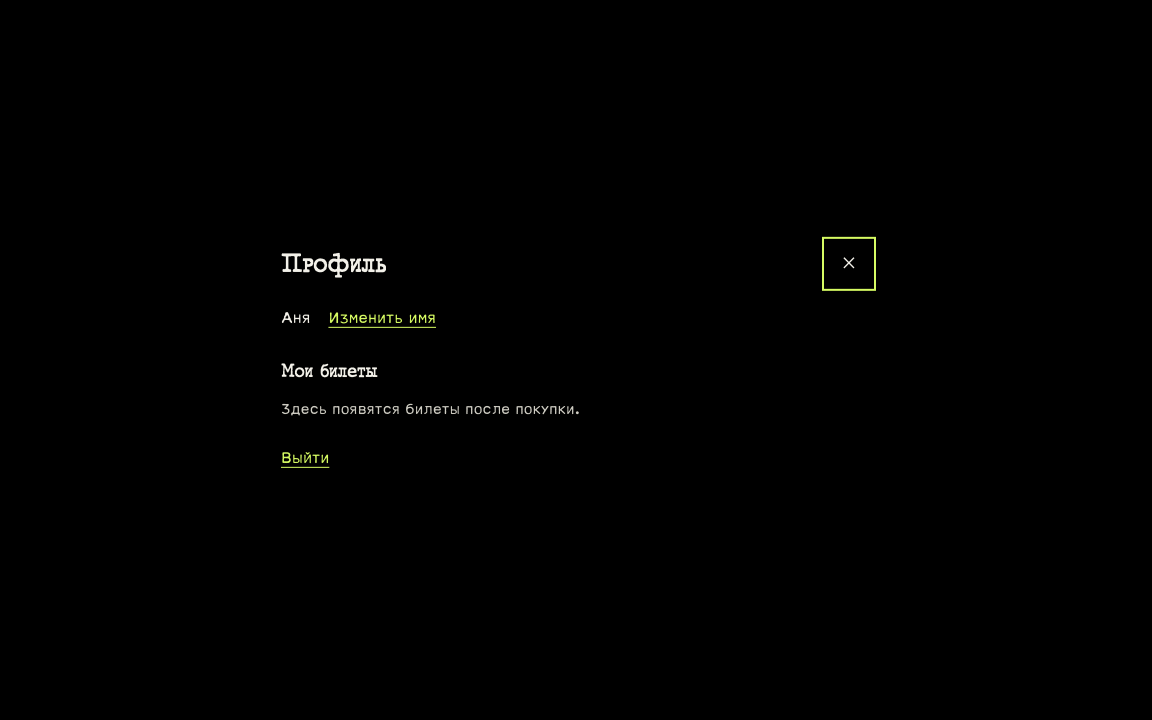
не отправляет пустое имя и сохраняет новое имя без лишних пробелов
Click the button "Изменить имя".
click(382, 318)  # box left=328, top=298, right=436, bottom=338
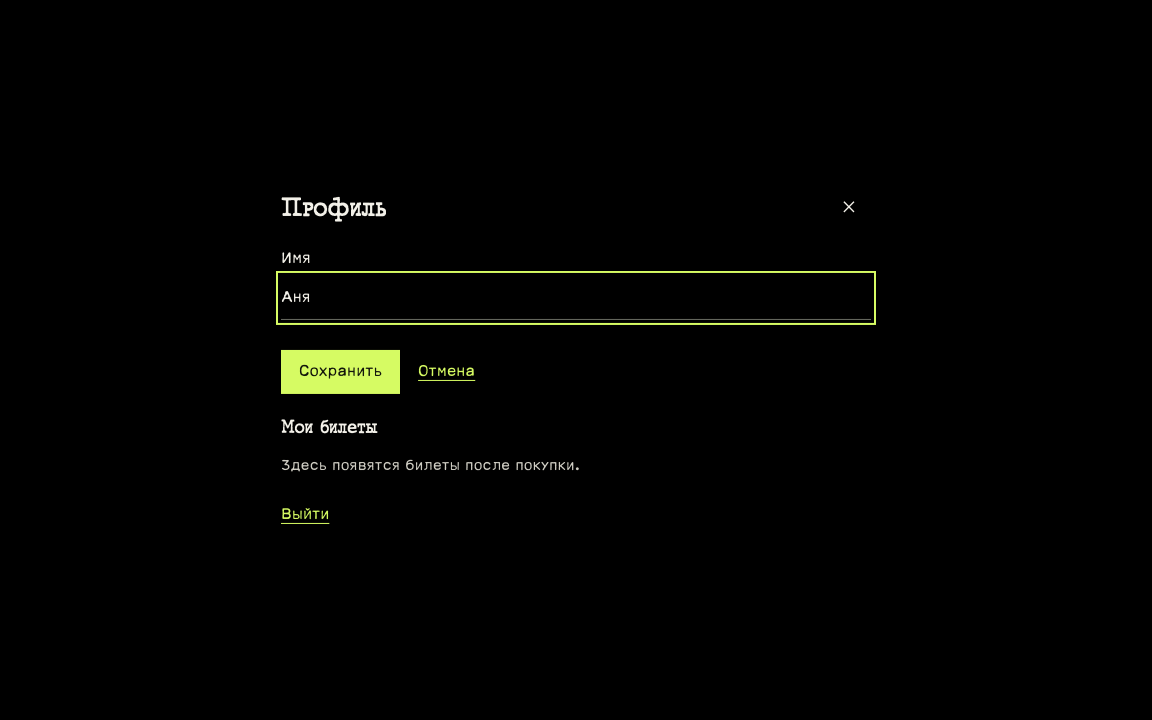
Clear the field labelled "Имя" at [576, 298], box left=281, top=276, right=871, bottom=320
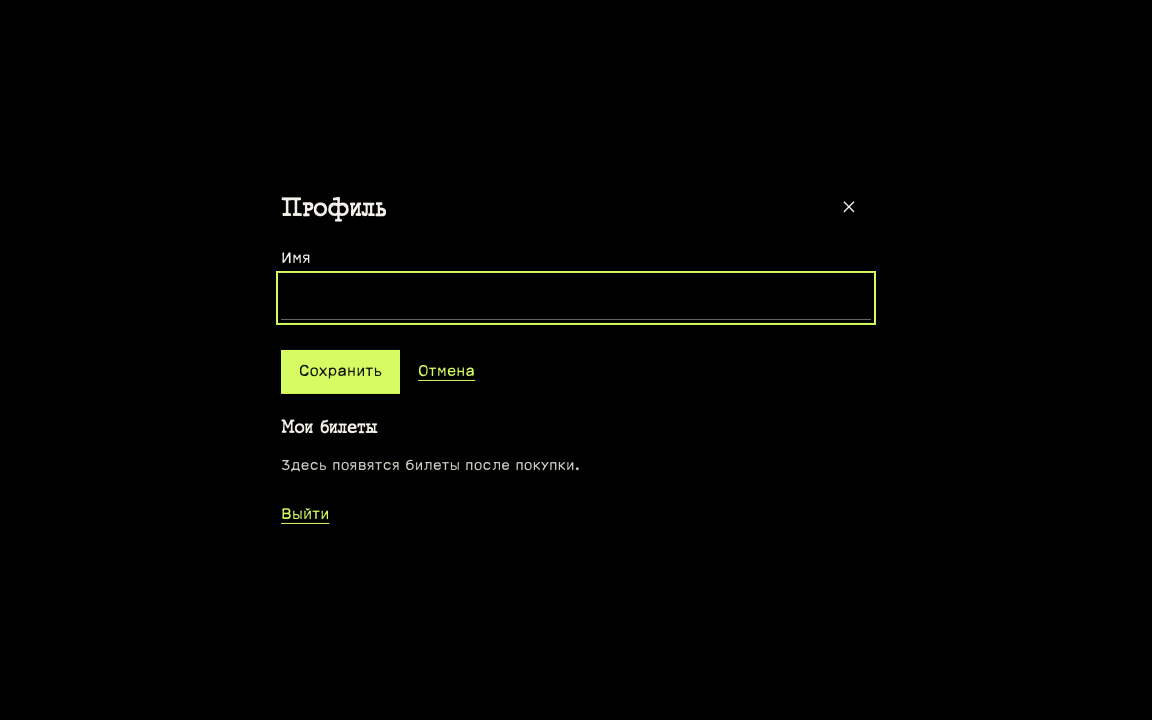
Click the button "Сохранить".
click(341, 372)  # box left=281, top=350, right=400, bottom=394
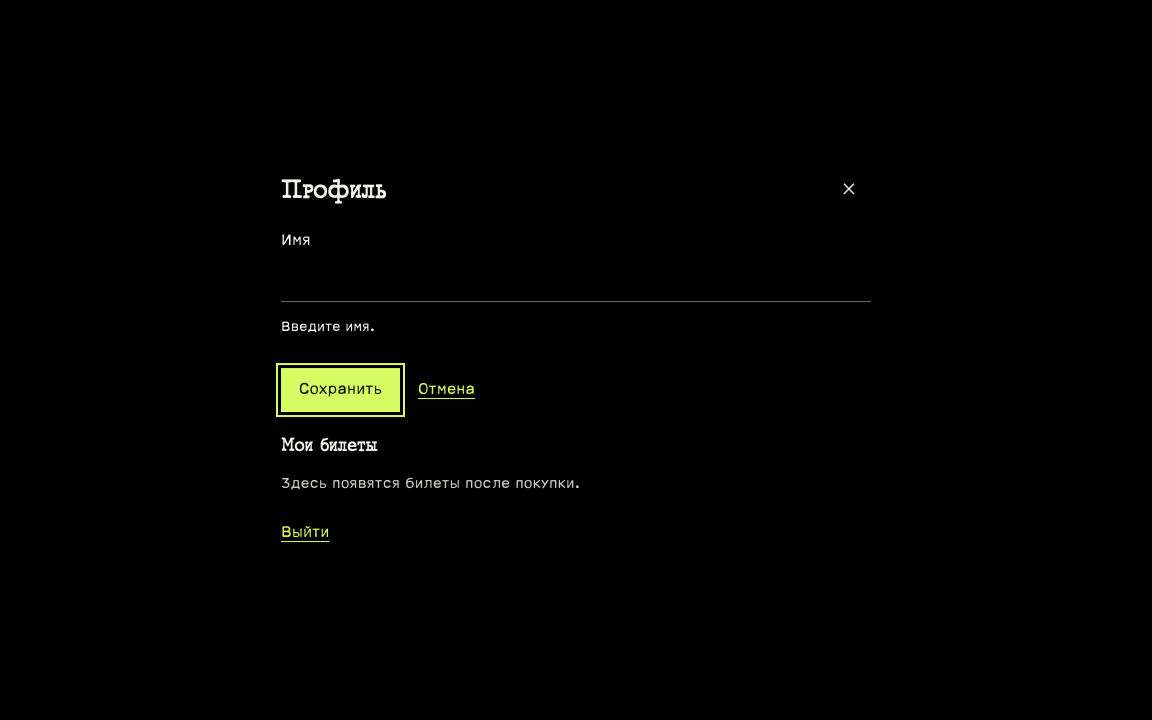
expect the field labelled "Имя" is marked as invalid: met
Type "  Анна " into the field labelled "Имя".
click(576, 280); type("  Анна ")  # box left=281, top=258, right=871, bottom=302
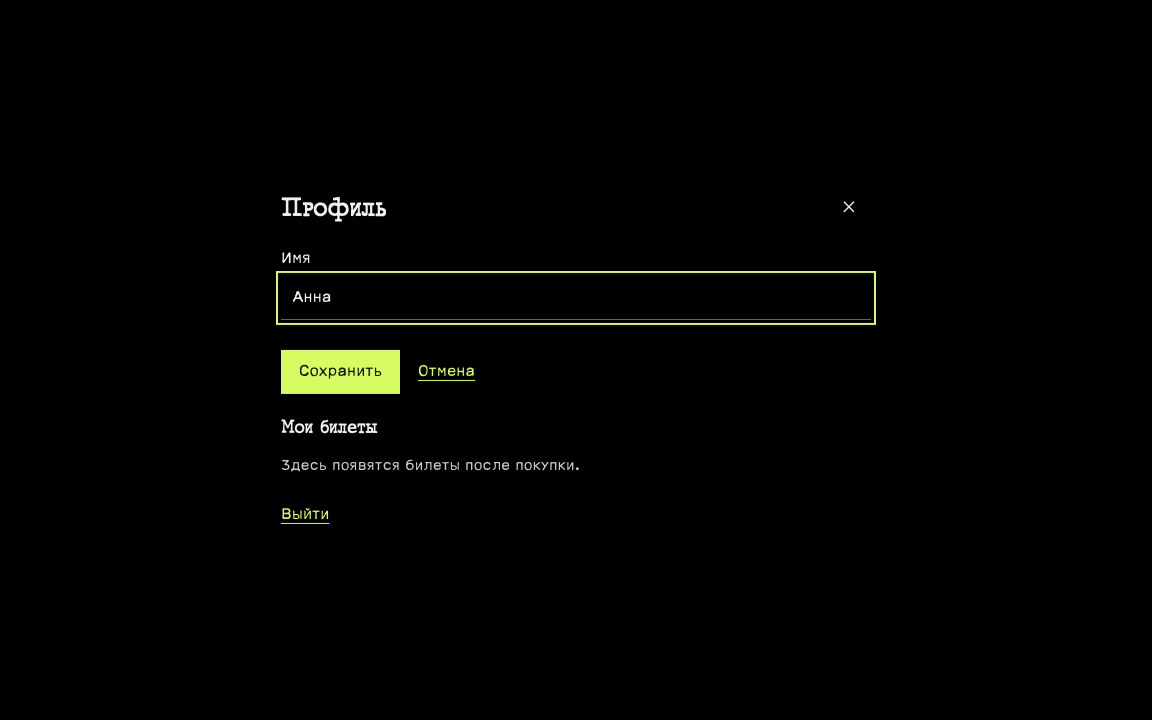
Click the button "Сохранить".
click(341, 372)  # box left=281, top=350, right=400, bottom=394
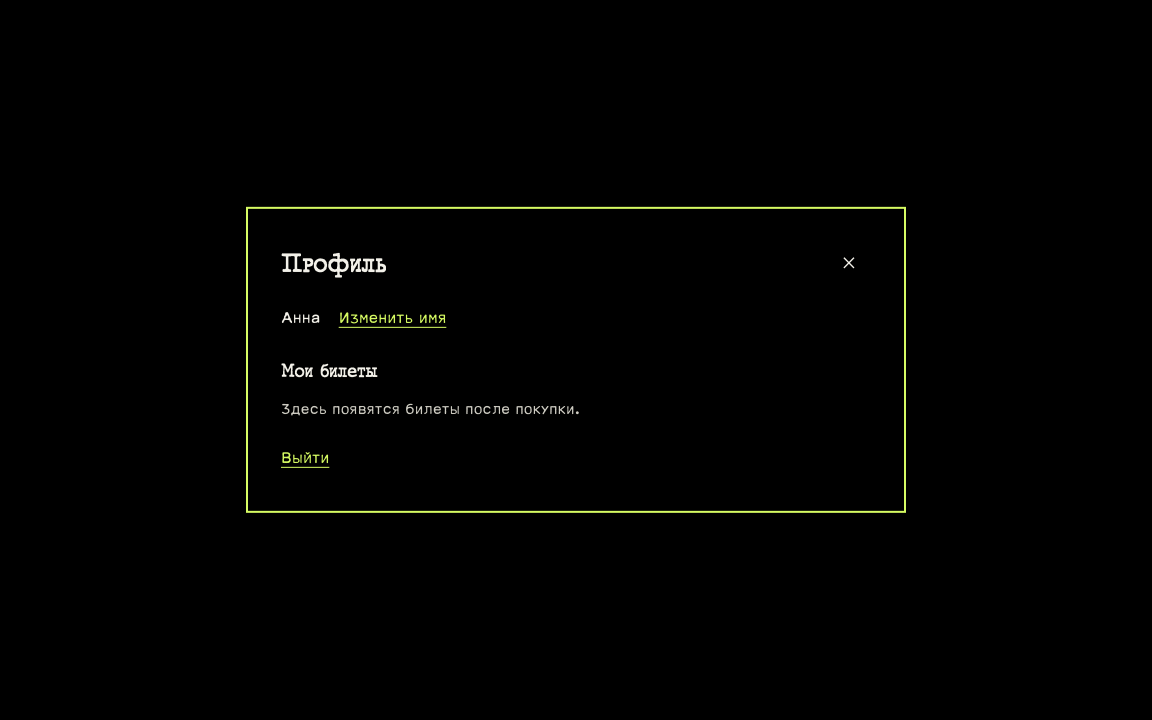
expect the text "Анна" is shown: met, box left=281, top=305, right=321, bottom=330
expect the field is gone: met
